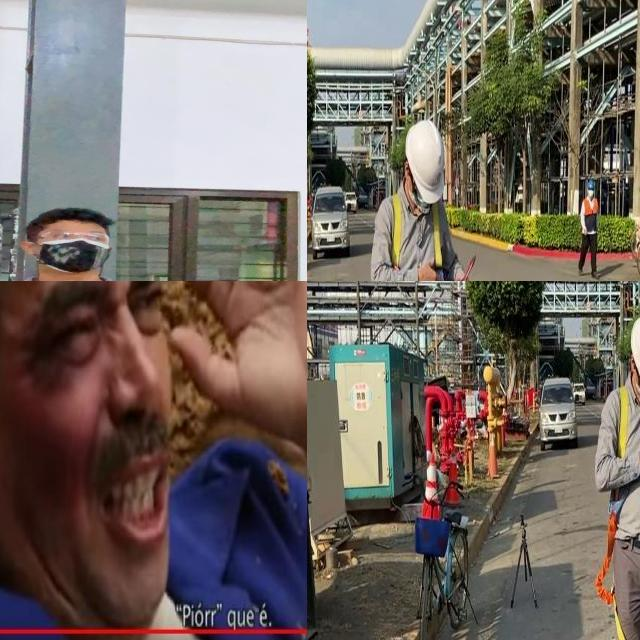Harness: (595, 509, 628, 640), (428, 203, 443, 281)
No_Ear-Protection: (0, 281, 179, 636)
face_mask: (29, 225, 116, 272)
glasses: (25, 229, 112, 246)
head_nohelmet: (29, 206, 119, 233)
person: (0, 201, 232, 281)
